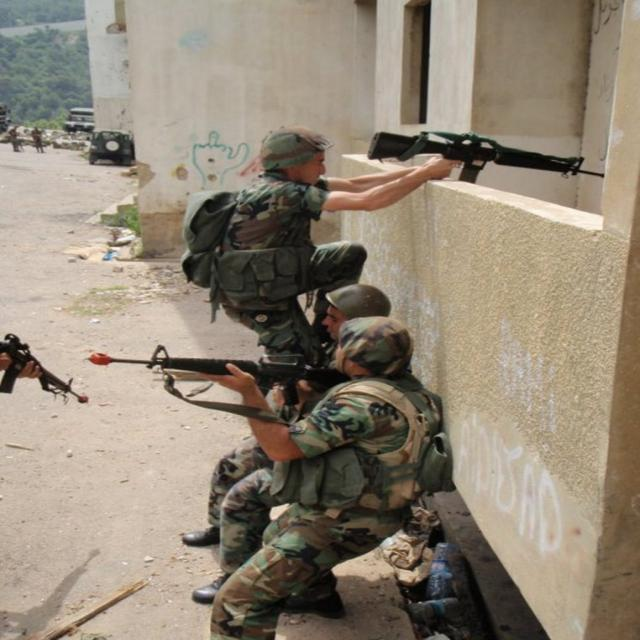weapon: (95, 344, 348, 428), (359, 122, 609, 190), (0, 324, 94, 409)
